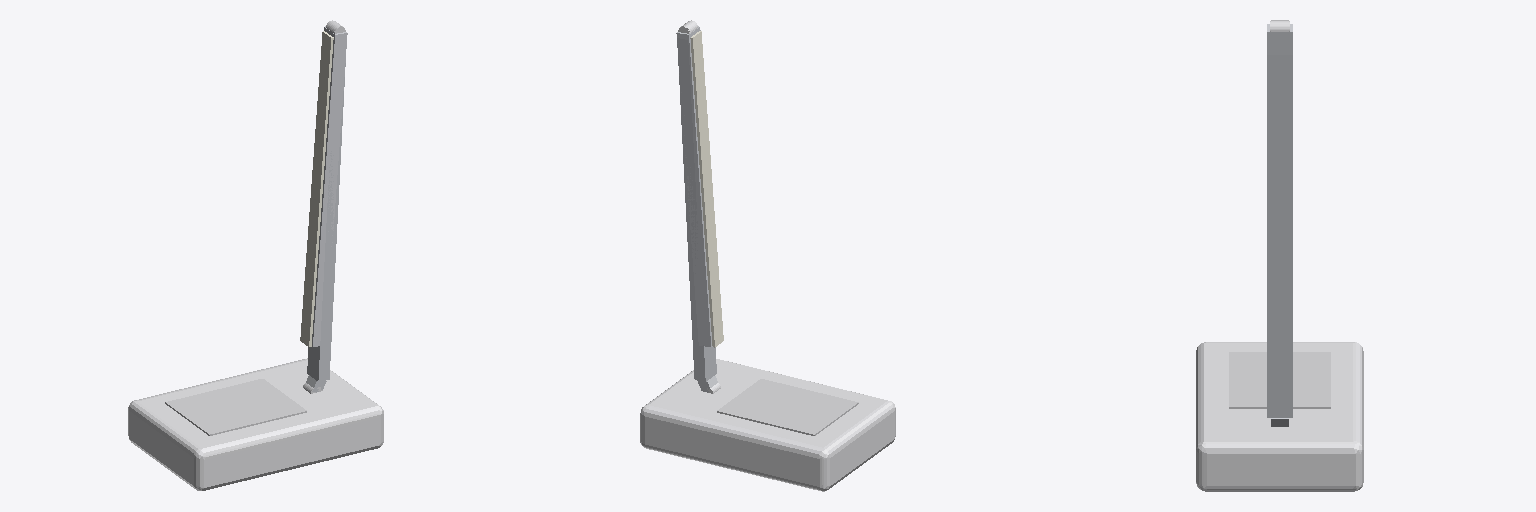
URDF robot description (stand_2):
<?xml version='1.0' encoding='utf-8'?>
<robot name="stand_2">
  <link name="base">
    <visual name="design_base_0">
      <origin xyz="0.00000 0.00000 0.00000" rpy="0.00000 0.00000 0.00000" />
      <geometry>
        <mesh filename="meshes/design_base_0.stl" />
      </geometry>
      <material name="design_base_0_color">
        <color rgba="0.92000 0.92000 0.93000 1" />
      </material>
    </visual>
    <visual name="design_base_1">
      <origin xyz="-0.01500 0.00000 0.01560" rpy="0.00000 0.00000 0.00000" />
      <geometry>
        <box size="0.07000 0.05500 0.00180" />
      </geometry>
      <material name="design_base_1_color">
        <color rgba="0.86000 0.86000 0.87000 1" />
      </material>
    </visual>
    <visual name="design_base_2">
      <origin xyz="0.03970 0.00000 0.01000" rpy="0.00000 0.00000 0.00000" />
      <geometry>
        <box size="0.01400 0.01600 0.01000" />
      </geometry>
      <material name="design_base_2_color">
        <color rgba="0.90000 0.90000 0.91000 1" />
      </material>
    </visual>
    <inertial>
      <origin xyz="0.000709794 8.31021e-19 6.71188e-05" rpy="-3.7274e-16 -1.55853 -3.14159" />
      <mass value="0.45" />
      <inertia ixx="0.00114864" ixy="0" ixz="0" iyy="0.000637651" iyz="0" izz="0.000569014" />
    </inertial>
    <collision>
      <origin xyz="0 0 0" rpy="0 0 0" />
      <geometry>
        <mesh filename="meshes/base.stl" />
      </geometry>
    </collision>
  </link>
  <link name="lower_arm">
    <visual name="design_lower_arm_0">
      <origin xyz="0.01025 0.00000 0.12350" rpy="0.00000 -1.51674 0.00000" />
      <geometry>
        <box size="0.23134 0.01400 0.00800" />
      </geometry>
      <material name="design_lower_arm_0_color">
        <color rgba="0.82000 0.83000 0.85000 1" />
      </material>
    </visual>
    <visual name="design_lower_arm_1">
      <origin xyz="0.00200 0.00000 0.00400" rpy="0.00000 -1.10715 0.00000" />
      <geometry>
        <box size="0.00894 0.01000 0.00700" />
      </geometry>
      <material name="design_lower_arm_1_color">
        <color rgba="0.82000 0.83000 0.85000 1" />
      </material>
    </visual>
    <visual name="design_lower_arm_2">
      <origin xyz="0.00000 0.00000 0.00000" rpy="-1.57080 -1.57080 0.00000" />
      <geometry>
        <cylinder radius="0.00420" length="0.01000" />
      </geometry>
      <material name="design_lower_arm_2_color">
        <color rgba="0.90000 0.90000 0.91000 1" />
      </material>
    </visual>
    <visual name="design_lower_arm_3">
      <origin xyz="0.01650 0.00000 0.24250" rpy="-1.57080 -1.57080 0.00000" />
      <geometry>
        <cylinder radius="0.00420" length="0.01000" />
      </geometry>
      <material name="design_lower_arm_3_color">
        <color rgba="0.90000 0.90000 0.91000 1" />
      </material>
    </visual>
    <inertial>
      <origin xyz="0.0116196 2.01681e-19 0.115613" rpy="0 0.0638385 0" />
      <mass value="0.075" />
      <inertia ixx="0.000309725" ixy="0" ixz="0" iyy="0.000307362" iyz="0" izz="2.63711e-06" />
    </inertial>
    <collision>
      <origin xyz="0 0 0" rpy="0 0 0" />
      <geometry>
        <mesh filename="meshes/lower_arm.stl" />
      </geometry>
    </collision>
  </link>
  <link name="upper_arm">
    <visual name="design_upper_arm_0">
      <origin xyz="-0.00800 0.00000 -0.10500" rpy="3.14159 1.49475 3.14159" />
      <geometry>
        <box size="0.21061 0.01400 0.00900" />
      </geometry>
      <material name="design_upper_arm_0_color">
        <color rgba="0.85000 0.86000 0.88000 1" />
      </material>
    </visual>
    <visual name="design_upper_arm_1">
      <origin xyz="-0.01340 0.00000 -0.10600" rpy="3.14159 1.49402 3.14159" />
      <geometry>
        <box size="0.20861 0.01100 0.00180" />
      </geometry>
      <material name="design_upper_arm_1_color">
        <color rgba="0.98000 0.97000 0.92000 1" />
      </material>
    </visual>
    <visual name="design_upper_arm_2">
      <origin xyz="0.00000 0.00000 0.00000" rpy="-1.57080 -1.57080 0.00000" />
      <geometry>
        <cylinder radius="0.00400" length="0.01100" />
      </geometry>
      <material name="design_upper_arm_2_color">
        <color rgba="0.90000 0.90000 0.91000 1" />
      </material>
    </visual>
    <visual name="design_upper_arm_3">
      <origin xyz="-0.01600 0.00000 -0.21000" rpy="0.00000 0.00000 0.00000" />
      <geometry>
        <sphere radius="0.00320" />
      </geometry>
      <material name="design_upper_arm_3_color">
        <color rgba="0.88000 0.88000 0.89000 1" />
      </material>
    </visual>
    <inertial>
      <origin xyz="-0.010476 6.5465e-19 -0.110646" rpy="0 0.0719112 0" />
      <mass value="0.09" />
      <inertia ixx="0.000324948" ixy="0" ixz="0" iyy="0.00031314" iyz="0" izz="1.21918e-05" />
    </inertial>
    <collision>
      <origin xyz="0 0 0" rpy="0 0 0" />
      <geometry>
        <mesh filename="meshes/upper_arm.stl" />
      </geometry>
    </collision>
  </link>
  <joint name="lower_arm_joint" type="revolute">
    <parent link="base" />
    <child link="lower_arm" />
    <origin xyz="0.03973 0 0.01514" rpy="0 0 0" />
    <axis xyz="0 -1 0" />
    <limit lower="-0.0114" upper="0.5315" effort="10" velocity="2" />
    <dynamics damping="0.02" friction="0.109883" />
  </joint>
  <joint name="upper_arm_joint" type="revolute">
    <parent link="lower_arm" />
    <child link="upper_arm" />
    <origin xyz="0.01649 0 0.24251" rpy="0 0 0" />
    <axis xyz="0 -1 0" />
    <limit lower="-1.4158" upper="0.0137" effort="10" velocity="2" />
    <dynamics damping="0.02" friction="0.122417" />
  </joint>
</robot>

--- What the picture shows (computed from the rendered views, not written in the file) ---
The picture shows the robot from 3 angles, left to right: view 1: azimuth 30°, elevation 25°; view 2: azimuth 150°, elevation 25°; view 3: azimuth 270°, elevation 25°; orthographic projection.
Model stand_2 with 3 links and 2 joints (2 revolute), rooted at base, posed every joint at zero.
Visible links, largest first — view 1: base, upper_arm, lower_arm; view 2: base, upper_arm, lower_arm; view 3: base, lower_arm, upper_arm.
Boxes of the visible links, bbox=[...] form: base: bbox=[128, 358, 383, 490]; upper_arm: bbox=[300, 20, 347, 346]; lower_arm: bbox=[303, 21, 345, 393]; base: bbox=[640, 359, 895, 491]; upper_arm: bbox=[676, 20, 723, 347]; lower_arm: bbox=[677, 21, 720, 393]; base: bbox=[1196, 342, 1363, 491]; lower_arm: bbox=[1267, 20, 1292, 426]; upper_arm: bbox=[1267, 21, 1292, 54].
Bounding box of the posed robot: 0.1352 × 0.0898 × 0.2754 m (x, y, z).
1 mesh visuals loaded from 1 distinct referenced files (1 binary STL).
